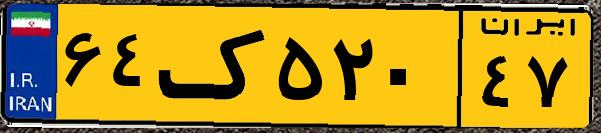0: (385, 28, 445, 110)
2: (330, 28, 385, 110)
4: (475, 38, 525, 113), (110, 28, 158, 98)
5: (270, 28, 330, 110)
6: (57, 26, 110, 100)
7: (525, 38, 570, 115)
ک: (158, 12, 270, 120)
